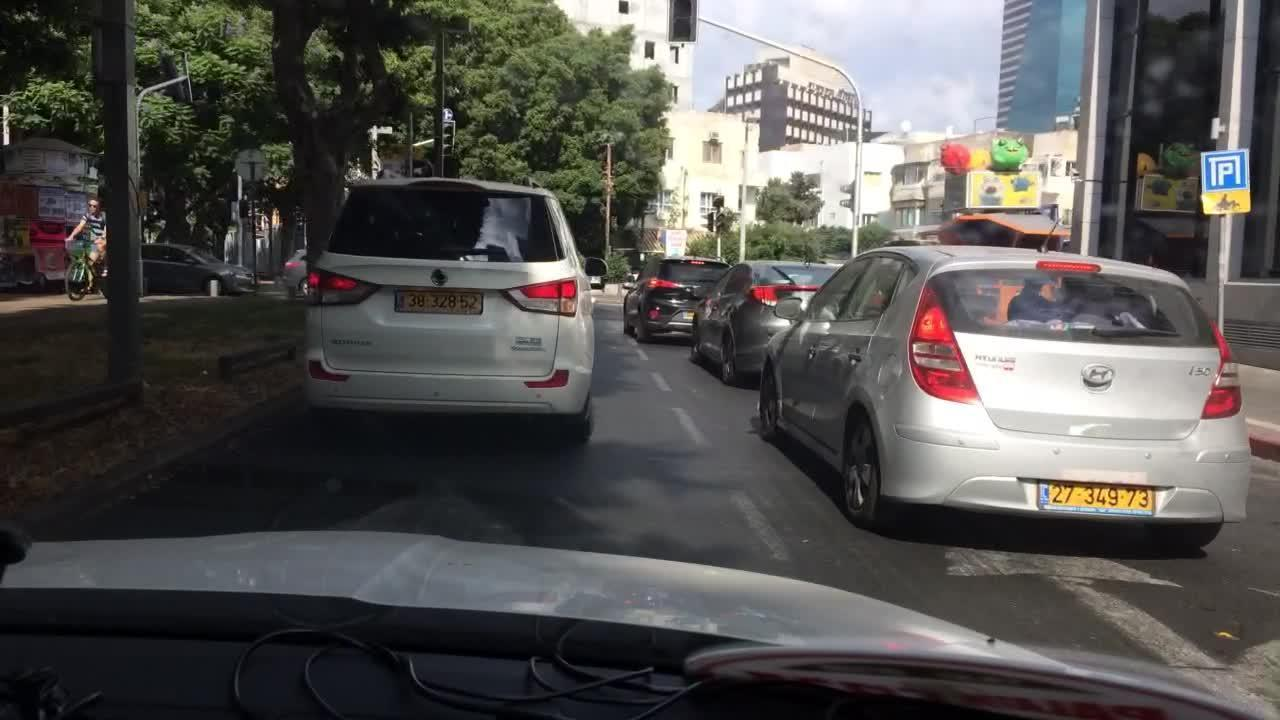Hyundai: (1077, 360, 1118, 390)
